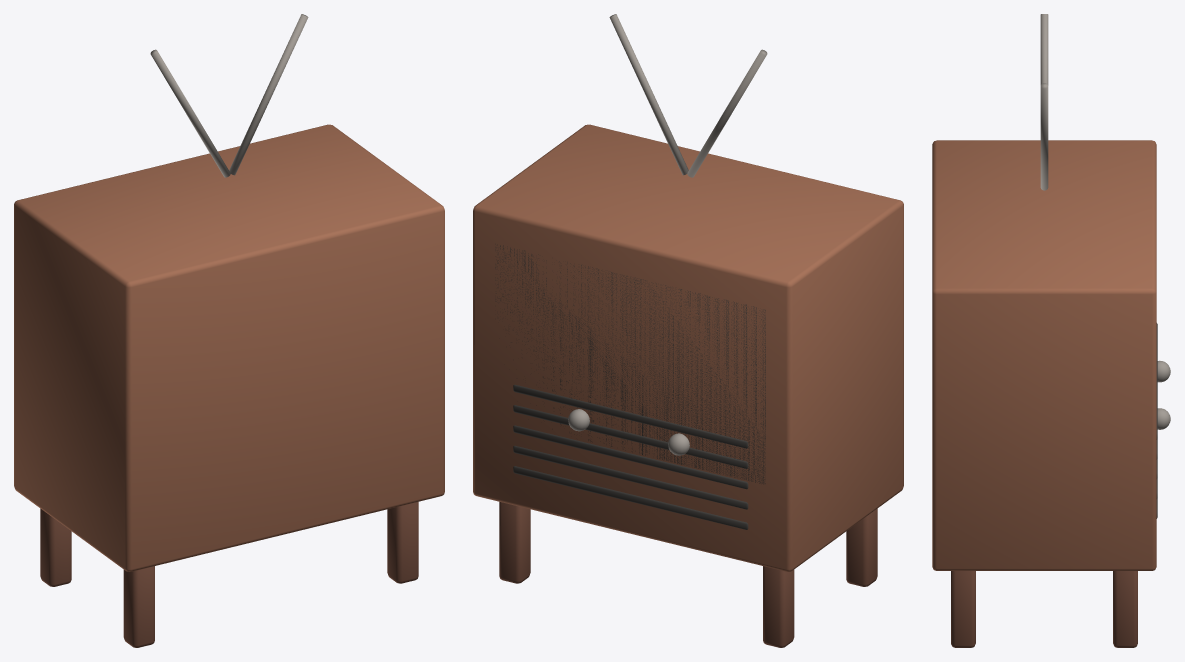
The model's file is old-tv.glb.
3 views of the same model, side by side, from view 1: azimuth 30°, elevation 25°; view 2: azimuth 150°, elevation 25°; view 3: azimuth 270°, elevation 25° (orthographic). The views are drawn at different scales.
Visible parts, largest first — view 1: cabinet, merged_wood_dark, merged_metal_light; view 2: cabinet, merged_soot, merged_wood_dark, merged_metal_light; view 3: cabinet, merged_wood_dark, merged_metal_light, merged_soot.
Boxes of the visible parts, x1,y1,x2,y2 form: cabinet: [14, 124, 444, 571]; merged_wood_dark: [40, 502, 418, 647]; merged_metal_light: [150, 14, 308, 177]; cabinet: [473, 124, 903, 571]; merged_soot: [495, 244, 765, 529]; merged_wood_dark: [499, 502, 877, 647]; merged_metal_light: [568, 14, 767, 455]; cabinet: [932, 140, 1156, 570]; merged_wood_dark: [951, 571, 1137, 647]; merged_metal_light: [1040, 14, 1170, 429]; merged_soot: [1156, 323, 1157, 518].
Bounding box in the file's own units: 1.15 × 1.89 × 0.765.
